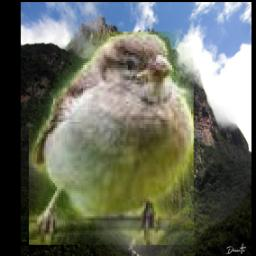Sparrow: (30, 31, 195, 245)
